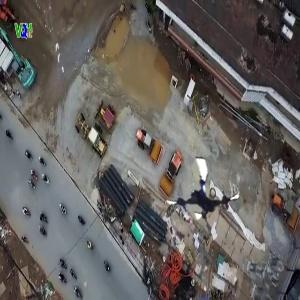drone: (161, 151, 242, 232)
